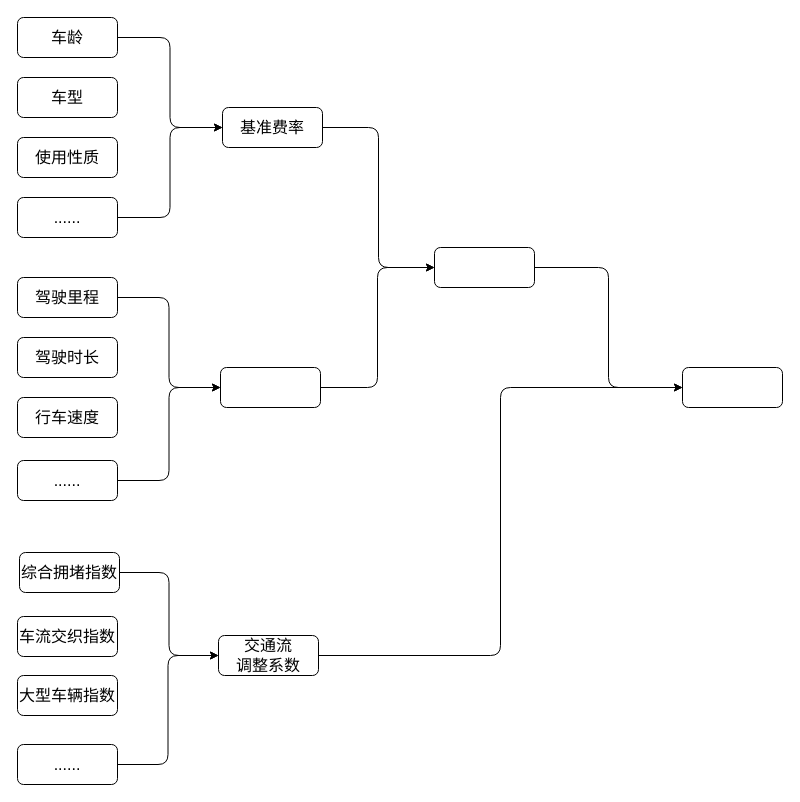
This 800x802 diagram has some shape labels left out. Each missing label, with the centre of its shape:
"TFUBI 车险费率" goes at [732,387].
"UBI车险费率" goes at [484,267].
"驾驶行为 调整系数" goes at [270,387].
